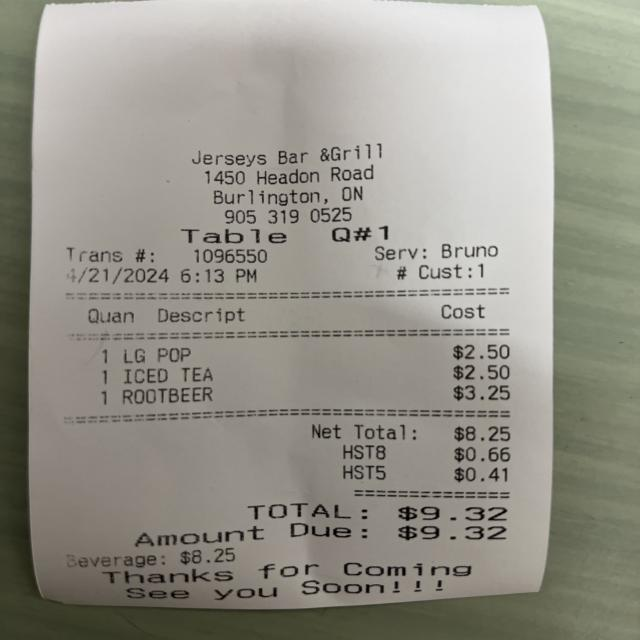item: (116, 338, 516, 368), (116, 382, 516, 410), (114, 362, 516, 389)
store_name: (188, 141, 392, 169)
total_amount: (239, 497, 514, 529)
transaction_date: (57, 261, 177, 291)
